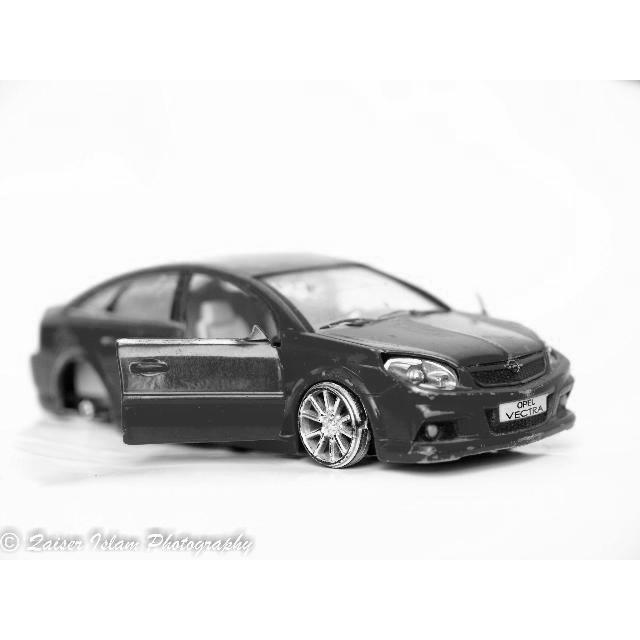fender-dent: (285, 343, 404, 403)
front-bumper-dent: (402, 377, 566, 461)
